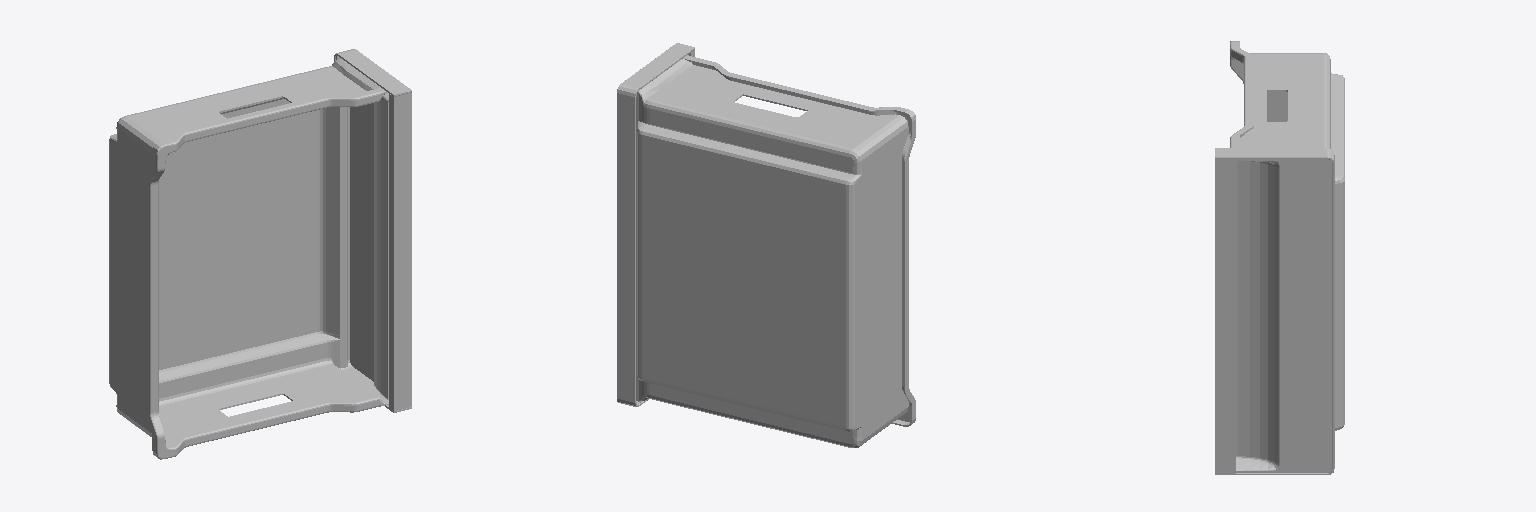
Rendered from FridgeDrawer04.obj.
The picture shows the model from 3 angles: view 1: azimuth 30°, elevation 25°; view 2: azimuth 150°, elevation 25°; view 3: azimuth 270°, elevation 25°; orthographic projection.
Visible parts, largest first — view 1: FridgeDrawer04; view 2: FridgeDrawer04; view 3: FridgeDrawer04.
Boxes of the visible parts, <box> form: FridgeDrawer04: <box>109,49,411,459</box>; FridgeDrawer04: <box>617,43,915,447</box>; FridgeDrawer04: <box>1215,41,1344,474</box>.
Size of the model in its own units: 0.333 by 0.409 by 0.152.